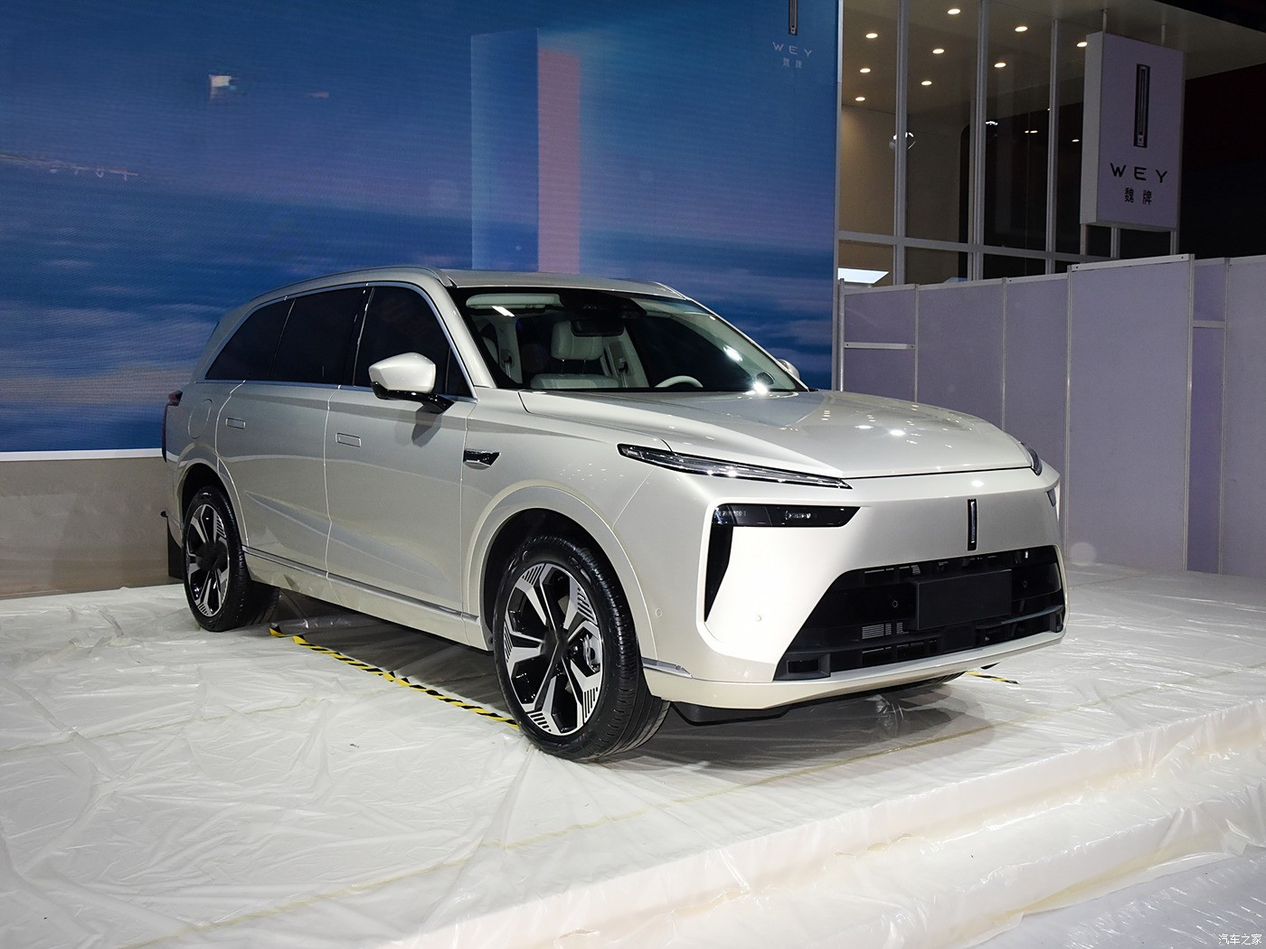WEY: (968, 499, 977, 550)
